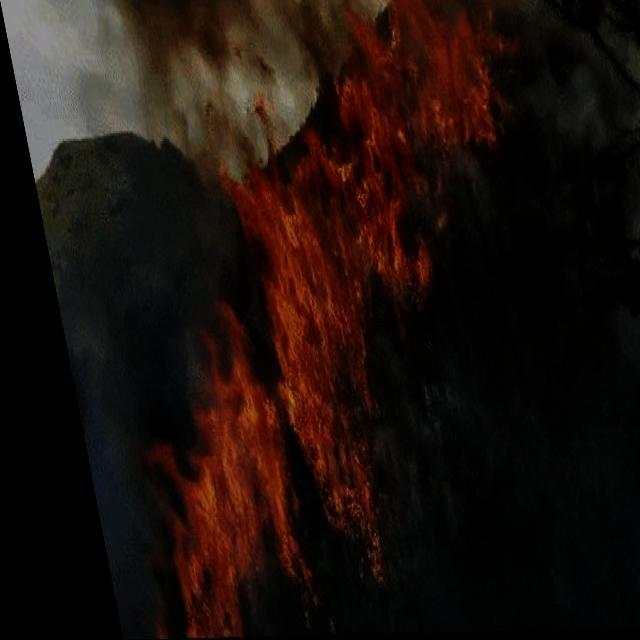Fire: (36, 0, 600, 637)
